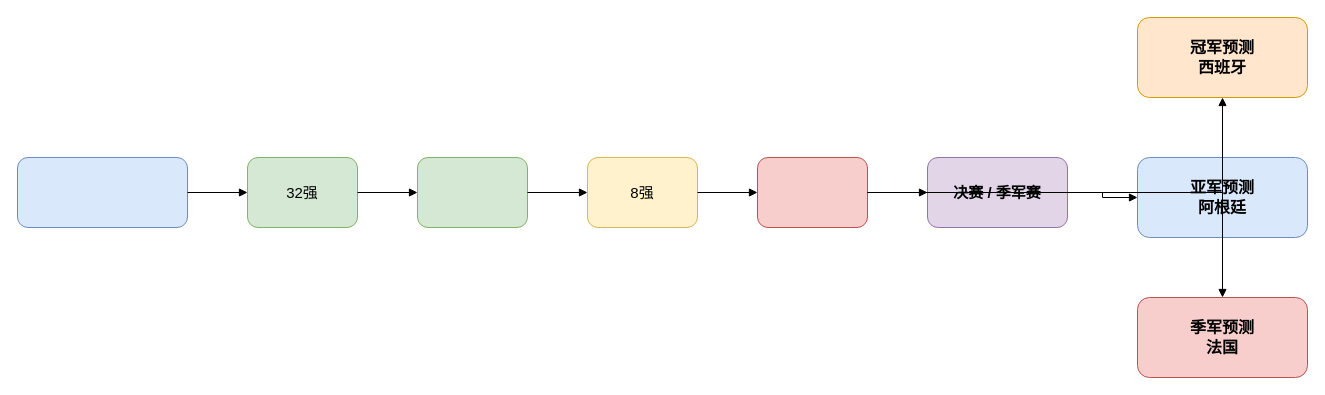
This 1325x395 diagram has some shape labels left out. The shapes that lost their labels are listed below. From the top down, each one's centre as x and y in pixels, then its label:
pixel 102 192: 小组赛 12组 + 最佳第三名
pixel 472 192: 16强
pixel 812 192: 4强
